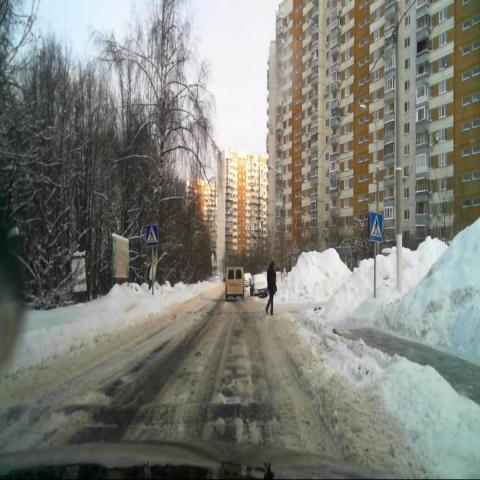5_19_1: (146, 223, 158, 248)
